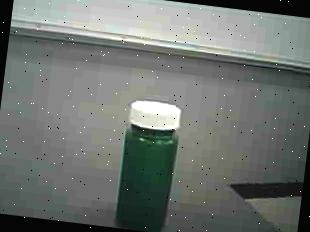Bottle C: (100, 92, 192, 232)
